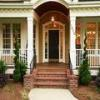stairs: (32, 70, 71, 90)
